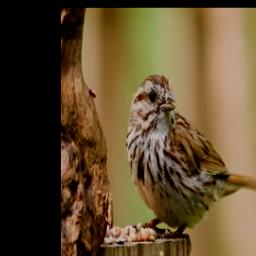Sparrow: (125, 71, 256, 255)
